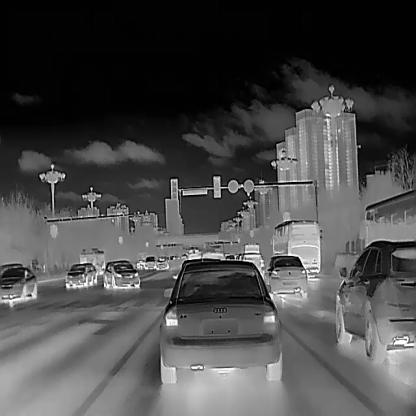bus: (358, 187, 416, 262), (269, 218, 320, 280), (76, 245, 105, 274), (240, 242, 260, 254)
car: (157, 256, 282, 382), (334, 239, 416, 364), (260, 253, 308, 300), (0, 266, 37, 303), (102, 260, 140, 288), (64, 260, 93, 288), (237, 252, 265, 278), (201, 247, 223, 259), (154, 254, 171, 268), (143, 254, 157, 268)
truck: (187, 245, 200, 260)
